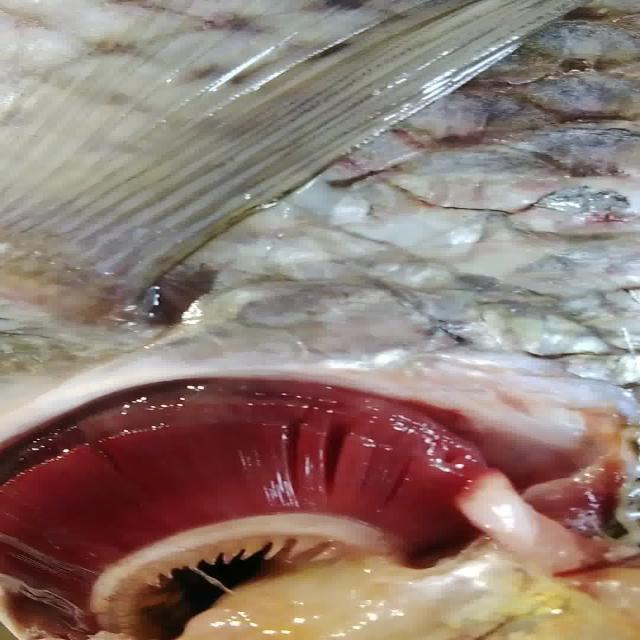Fresh: (0, 354, 537, 624)
